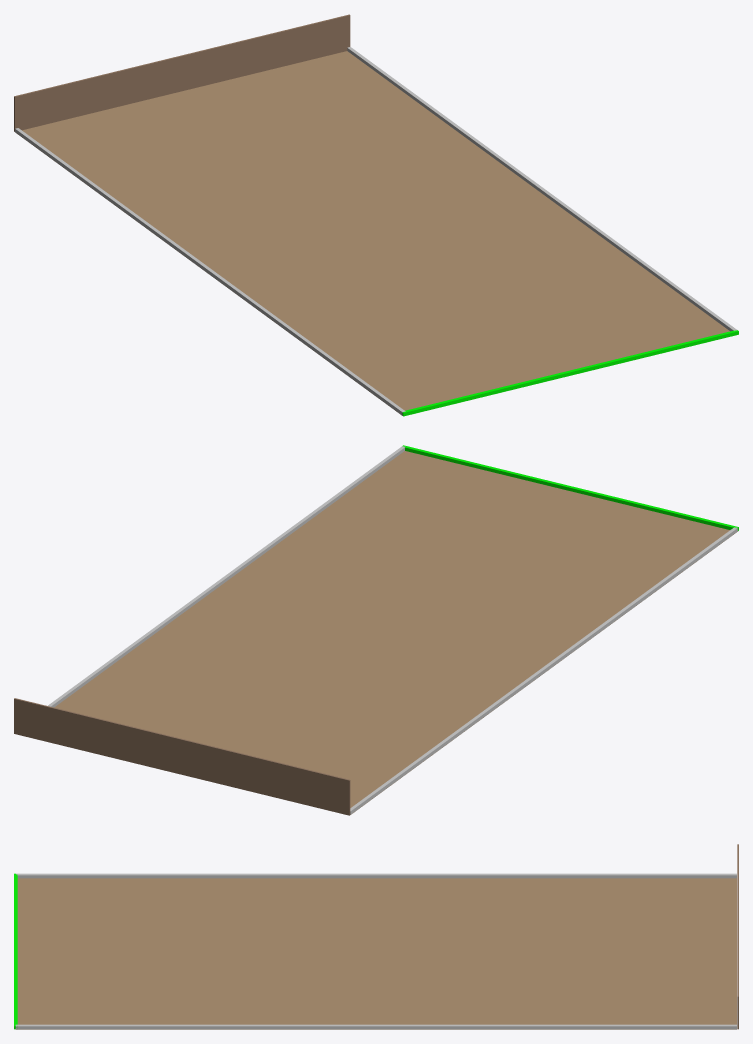
3 renders of one model, top to bottom at view 1: azimuth 30°, elevation 25°; view 2: azimuth 150°, elevation 25°; view 3: azimuth 270°, elevation 25°, orthographic. The views are drawn at different scales.
Parts seen in each view (by area): view 1: Cube, Cube.001, Cube.002, Cube.003, Cube.004; view 2: Cube, Cube.001, Cube.002, Cube.003, Cube.004; view 3: Cube, Cube.003, Cube.002, Cube.004, Cube.001.
Boxes of the visible parts, left/top/right/bottom form: Cube: left=15, top=51, right=729, bottom=415; Cube.001: left=14, top=14, right=350, bottom=131; Cube.002: left=15, top=128, right=405, bottom=415; Cube.003: left=347, top=47, right=736, bottom=331; Cube.004: left=402, top=330, right=738, bottom=416; Cube: left=54, top=451, right=737, bottom=814; Cube.001: left=14, top=698, right=350, bottom=815; Cube.002: left=350, top=527, right=737, bottom=814; Cube.003: left=48, top=446, right=405, bottom=707; Cube.004: left=402, top=445, right=738, bottom=530; Cube: left=16, top=878, right=736, bottom=1029; Cube.003: left=15, top=1024, right=736, bottom=1029; Cube.002: left=16, top=873, right=736, bottom=878; Cube.004: left=14, top=873, right=17, bottom=1029; Cube.001: left=737, top=844, right=738, bottom=1029.
Bounding box in the file's own units: 200 × 20.1 × 402.
